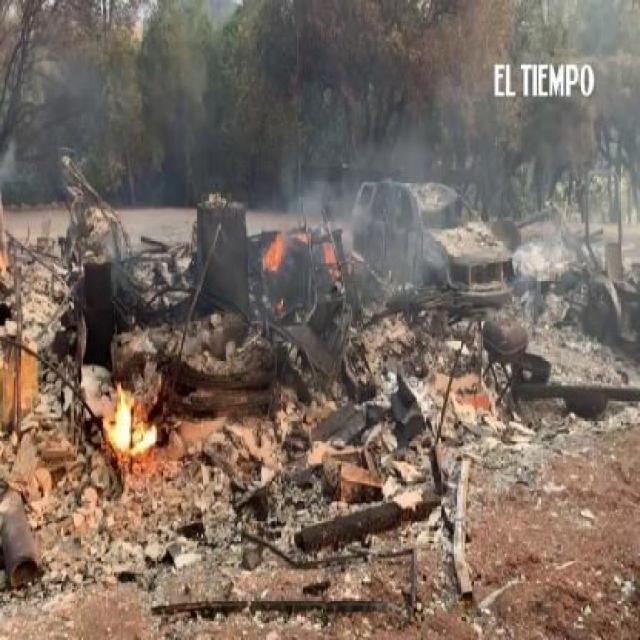Fire: (98, 378, 157, 450), (263, 234, 285, 268), (323, 238, 334, 266), (274, 297, 284, 311)
